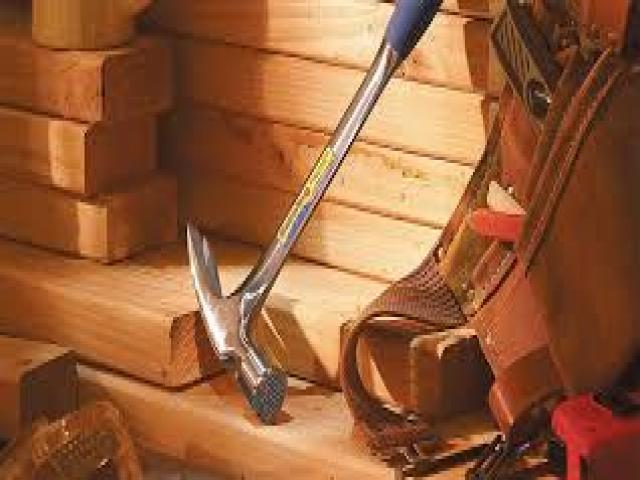Hammer: (188, 0, 441, 419)
